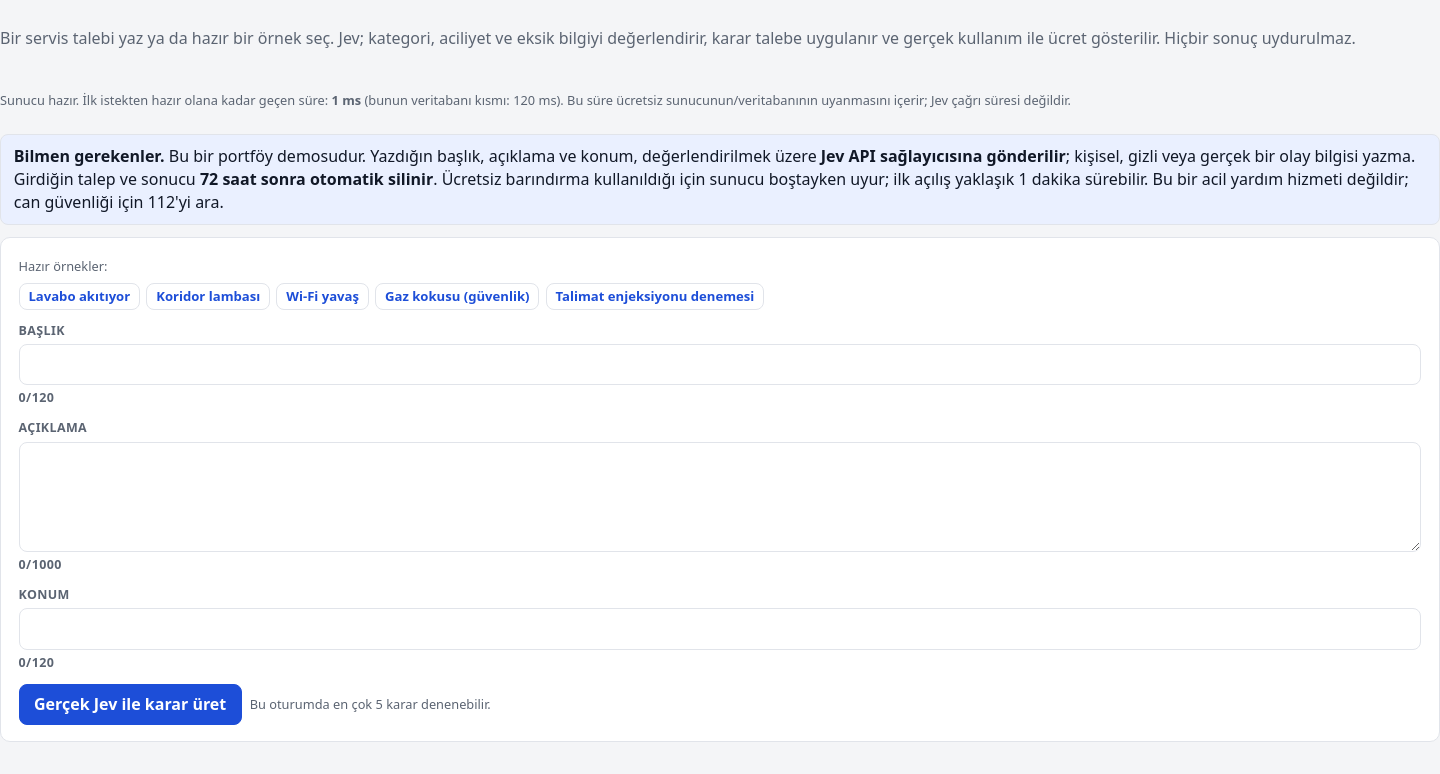
Test case: DemoPage: sonuç › belirsiz sonuç açıkça söylenir; yeniden gönder/sorgula düğmeleri yoktur
This screenshot has width=1440, height=774.
Check: the element with test id "wake-summary" is shown, box [0, 91, 1071, 109]
Click the button "Lavabo akıtıyor" at (79, 296), box [19, 283, 140, 310]
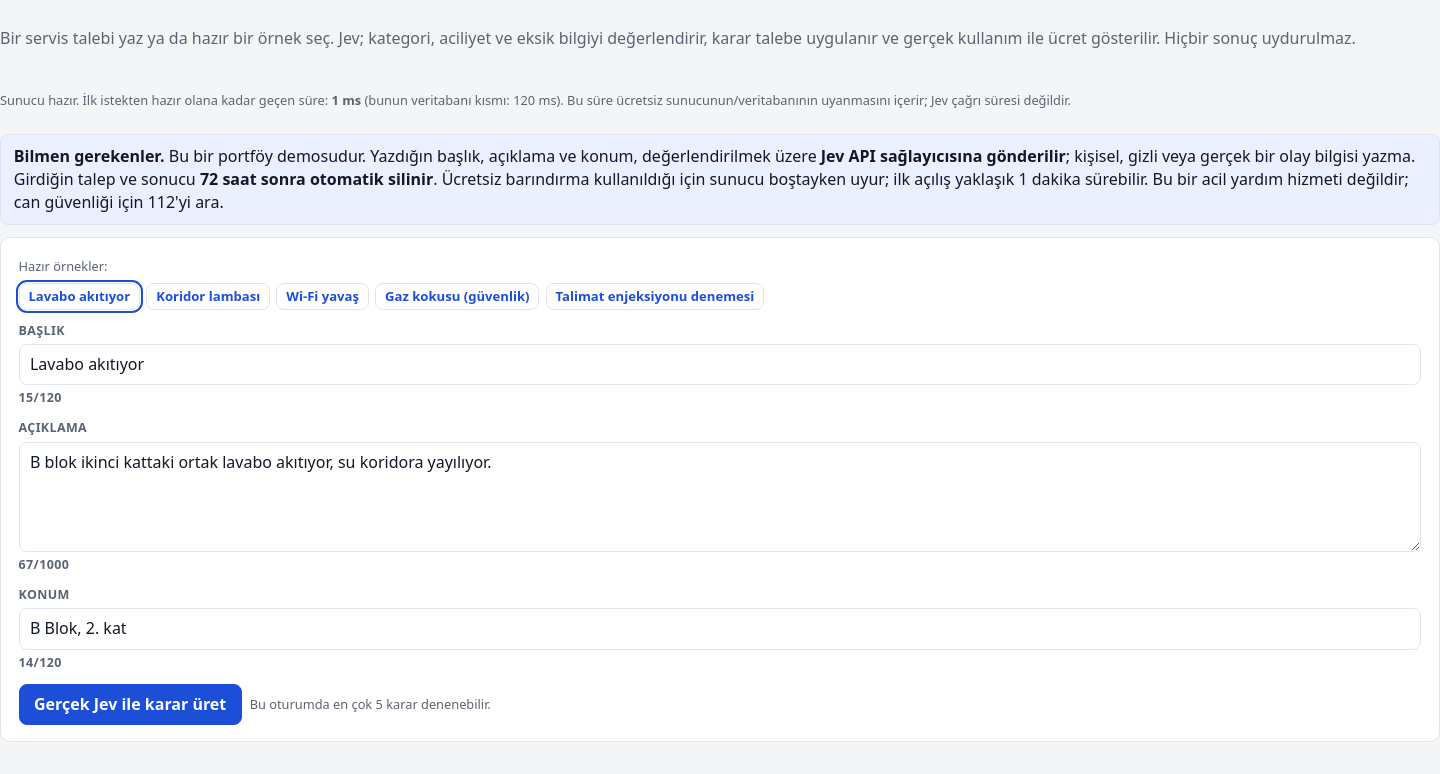
Click the button "Gerçek Jev ile karar üret" at (130, 704), box [19, 684, 242, 725]
(page scrolled)
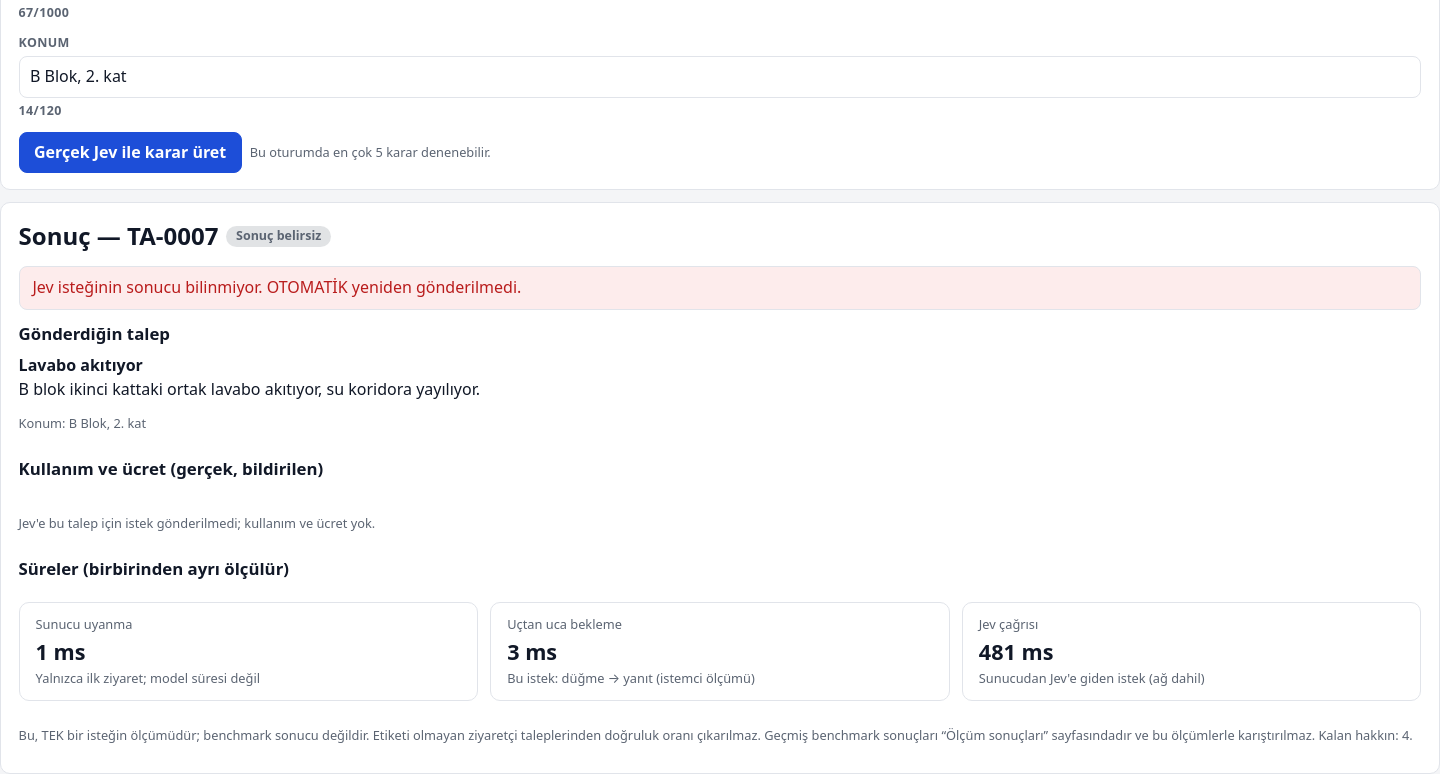
Check: the element "Sonuç" shows "Sonuç belirsiz", box [236, 227, 321, 244]
Check: the element "Sonuç" shows "OTOMATİK yeniden gönderilmedi", box [32, 276, 521, 298]
Check: the element "Sonuç" shows "Jev'e bu talep için istek gönderilmedi", box [19, 514, 375, 532]
